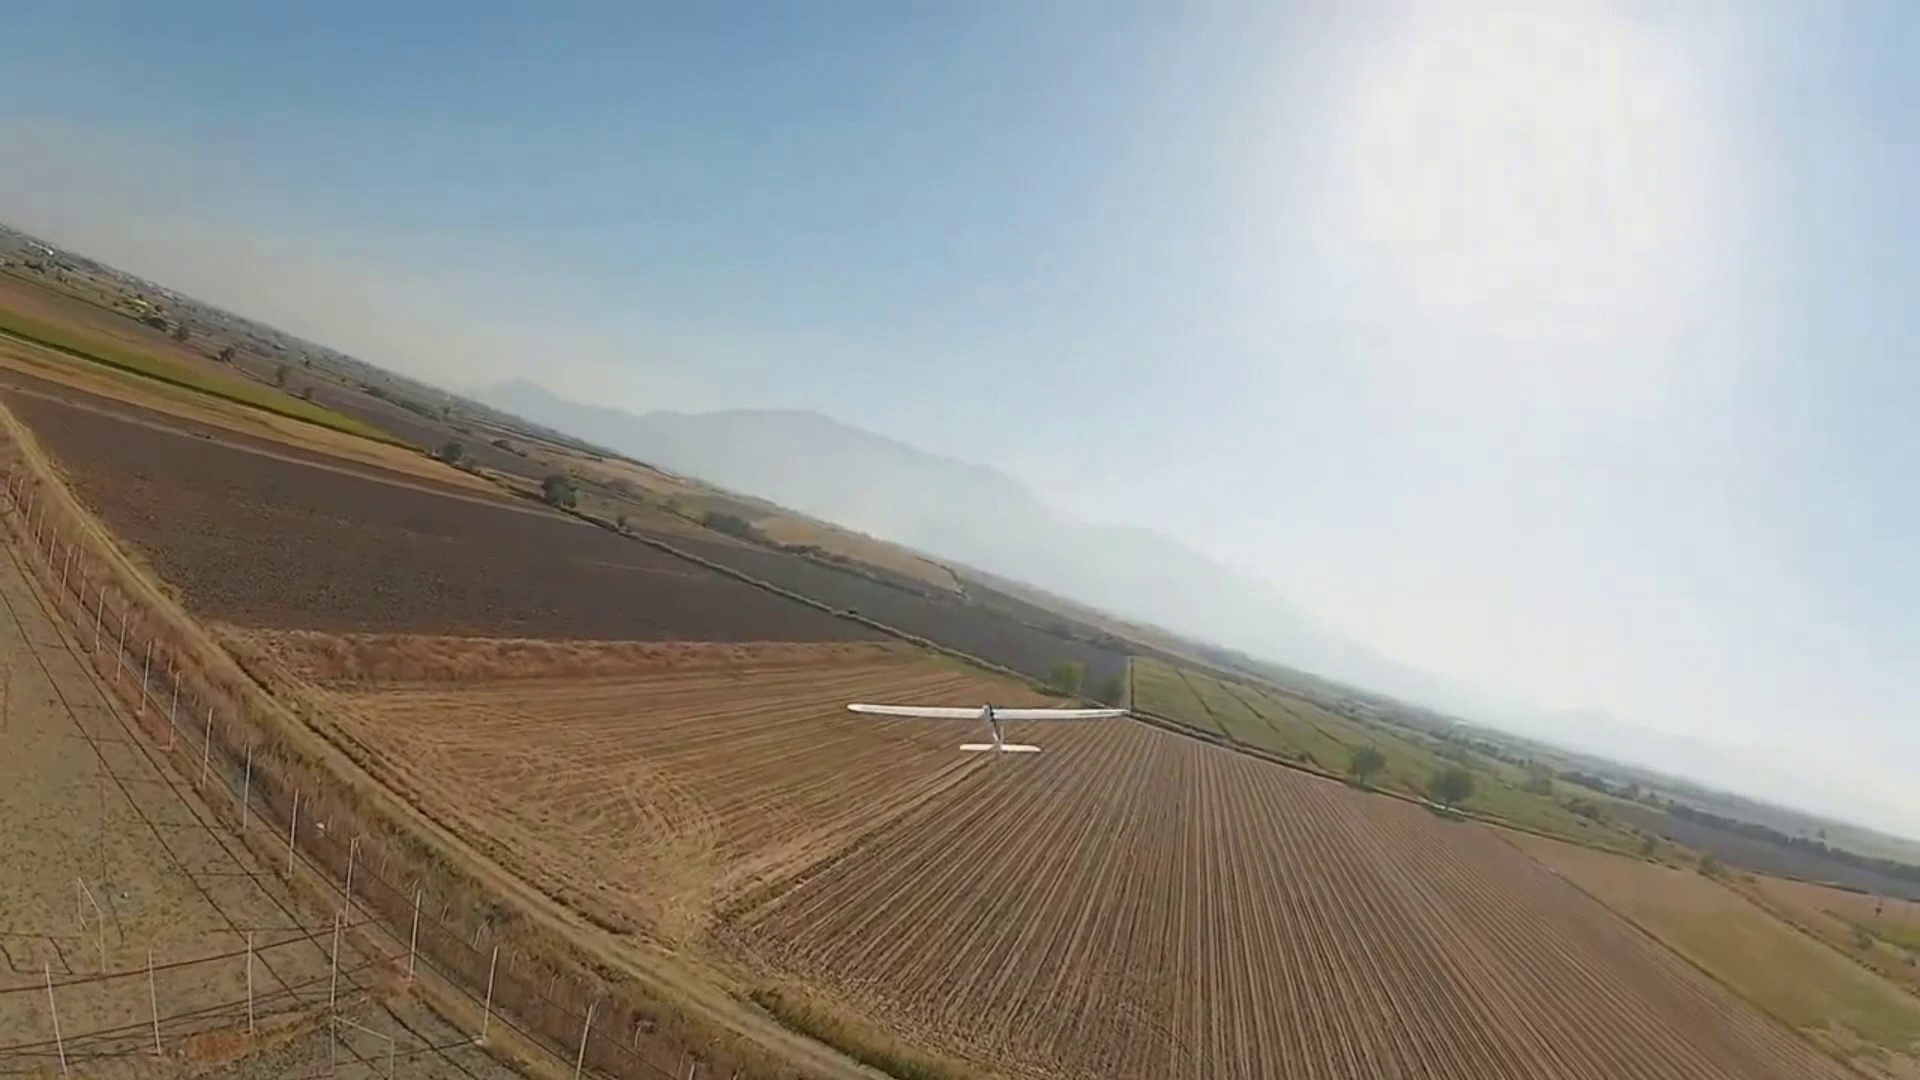airplane: (3, 220, 1913, 884)
